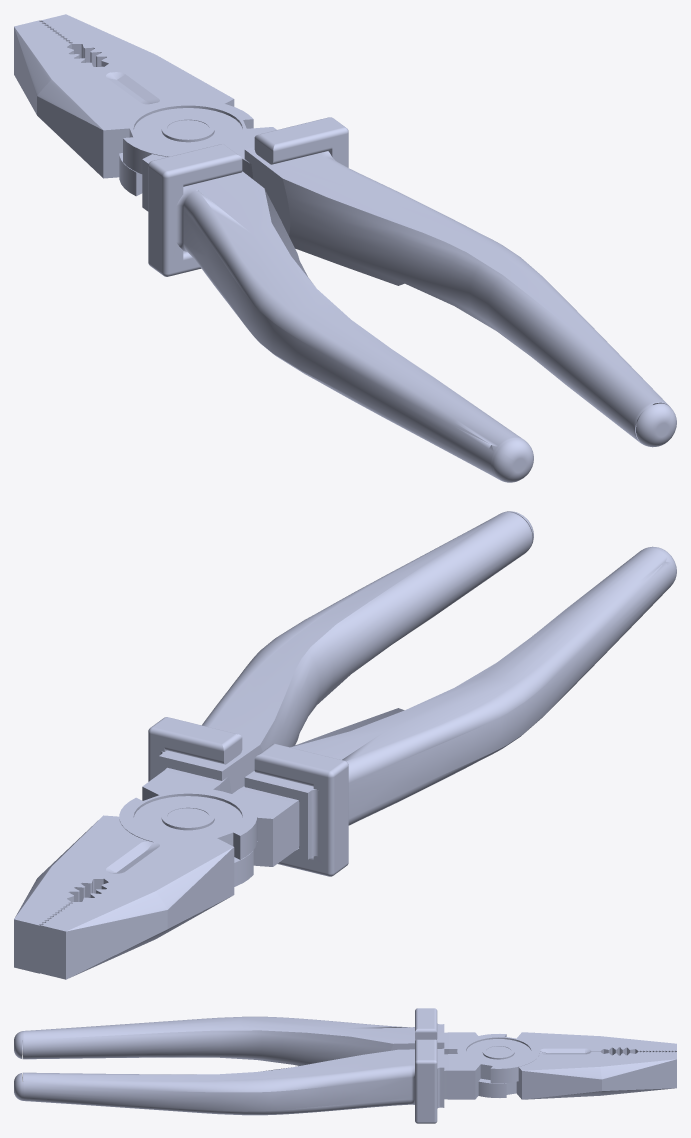
3 views of the same model, one above another, from view 1: azimuth 30°, elevation 25°; view 2: azimuth 150°, elevation 25°; view 3: azimuth 270°, elevation 25° (orthographic). The views are drawn at different scales.
Visible parts, largest first — view 1: cover_1.001, cover.001, Part2.001, Part1.001; view 2: cover.001, cover_1.001, Part2.001, Part1.001; view 3: cover_1.001, cover.001, Part1.001, Part2.001.
Part boxes in pixels (box(x1,y1,x2,y2)): cover_1.001: box(244, 117, 676, 447); cover.001: box(148, 144, 533, 482); Part2.001: box(14, 20, 652, 424); Part1.001: box(40, 14, 234, 211); cover.001: box(244, 546, 676, 876); cover_1.001: box(148, 511, 533, 793); Part2.001: box(40, 767, 256, 979); Part1.001: box(14, 786, 299, 973); cover_1.001: box(14, 1039, 444, 1123); cover.001: box(14, 1008, 444, 1065); Part1.001: box(437, 1032, 676, 1099); Part2.001: box(444, 1032, 676, 1099).
Size of the model in its own units: 0.2744 by 0.11 by 1.04.
